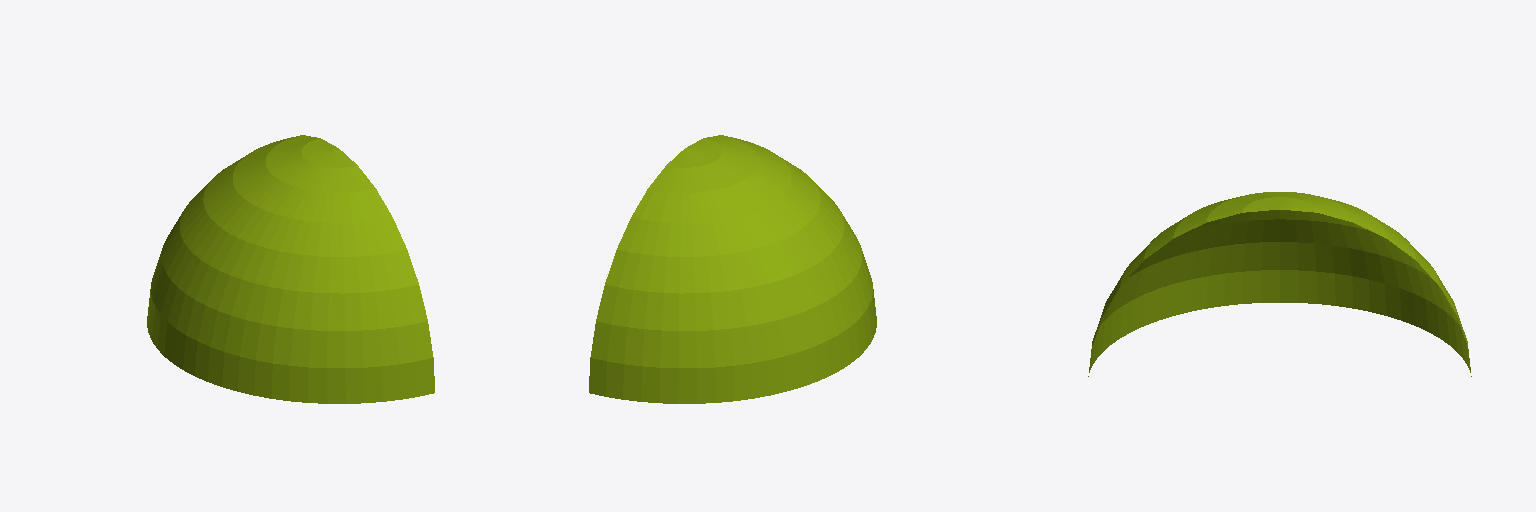
The model's file is ForceFieldSegment.obj.
3 views of the same model, side by side, from view 1: azimuth 30°, elevation 25°; view 2: azimuth 150°, elevation 25°; view 3: azimuth 270°, elevation 25° (orthographic).
Visible parts, largest first — view 1: Sphere001; view 2: Sphere001; view 3: Sphere001.
Part boxes in pixels (x1,y1,x2,y2): Sphere001: (147,135,434,403); Sphere001: (589,135,876,403); Sphere001: (1088,192,1471,376).
Bounding box in the file's own units: 26.97 × 26.97 × 53.95.